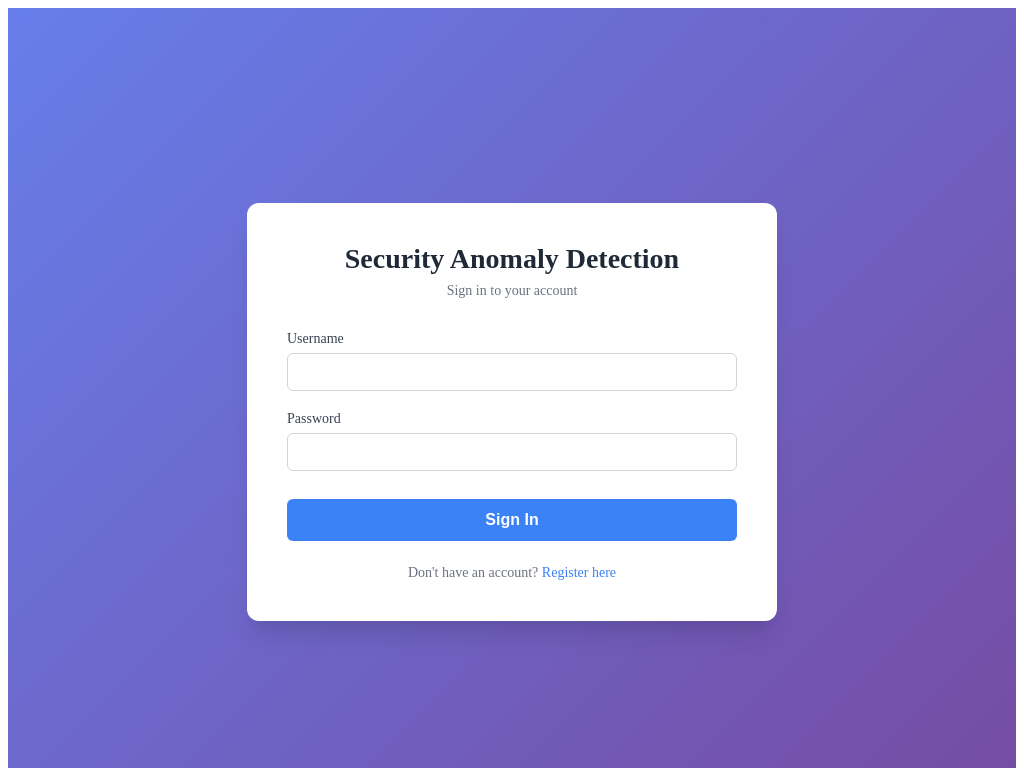
Test: Login Component › should display error message on failed login
In the field labelled "Username": (512, 372) [287,353,737,391], type "testuser"
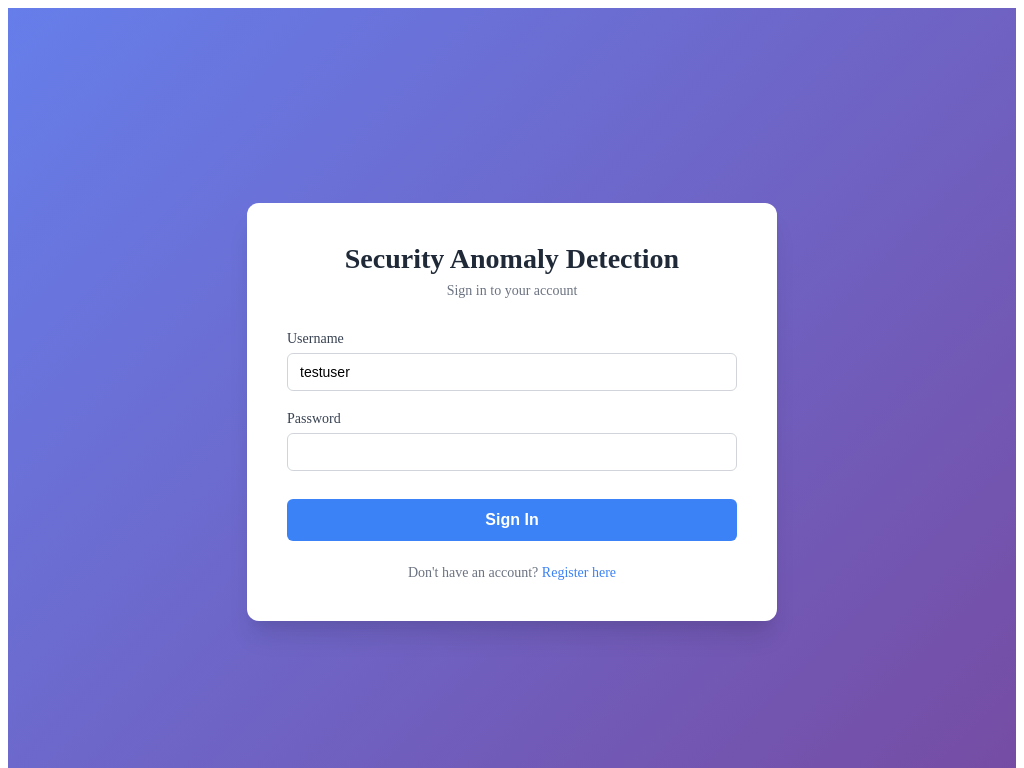
In the password field labelled "Password": (512, 452) [287,433,737,471], type "wrongpass"
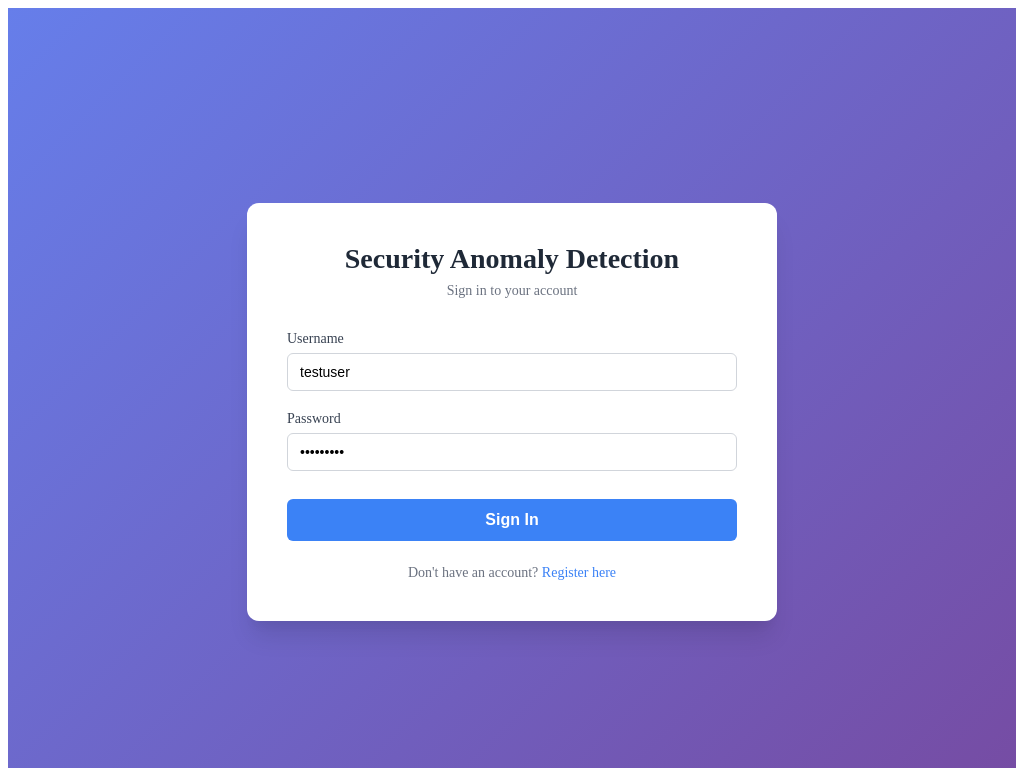
Click the button "Sign In": (512, 520) [287,499,737,541]
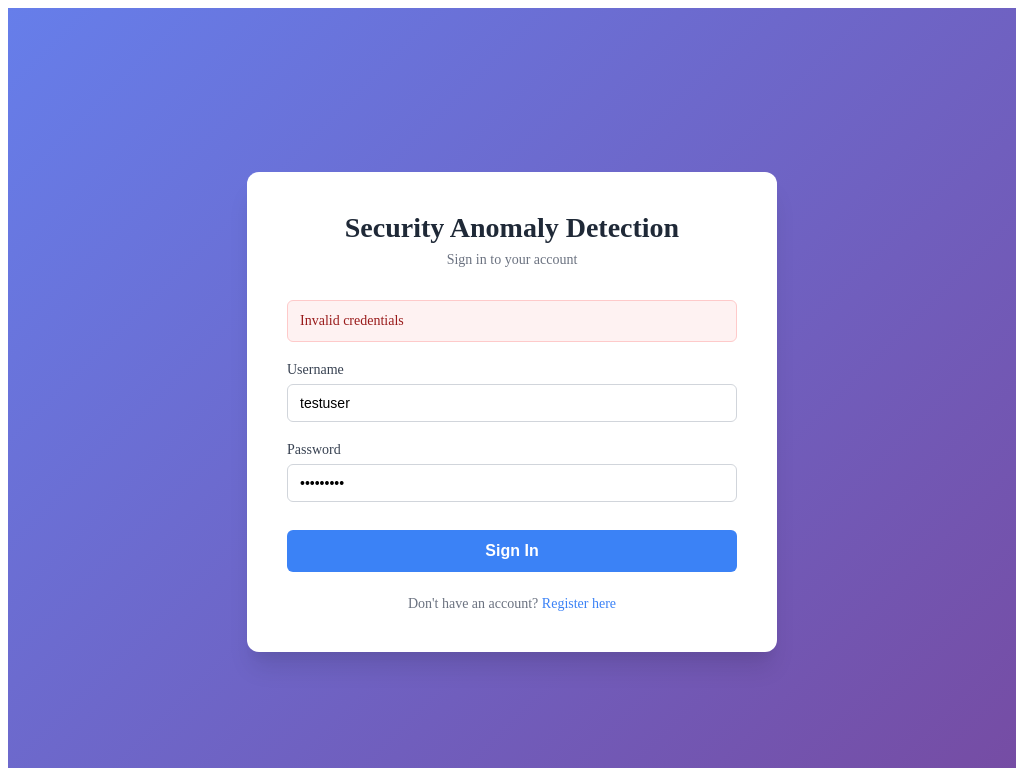
Expected: the text "Invalid credentials" is shown, [287,300,737,342]
